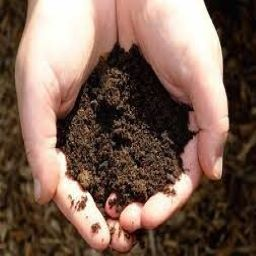dirt: (57, 52, 183, 197)
